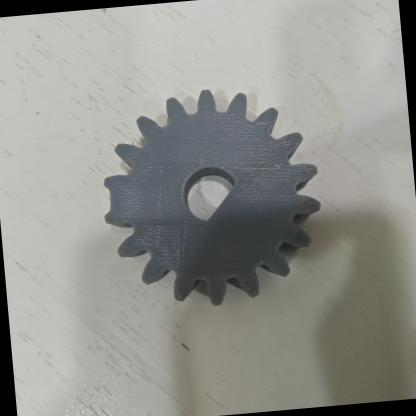defect: (188, 171, 256, 230), (96, 168, 146, 235)
gear: (95, 81, 328, 314)
